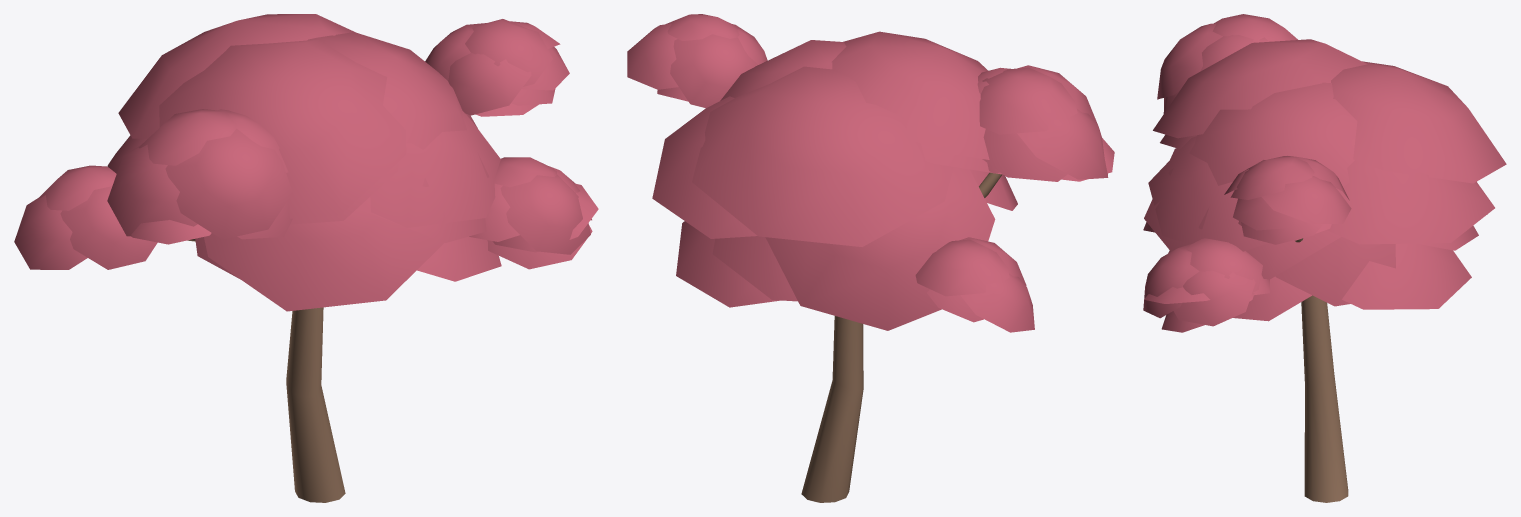
File: Tree_5.glb
3 renders of one model, left to right at view 1: azimuth 30°, elevation 25°; view 2: azimuth 150°, elevation 25°; view 3: azimuth 270°, elevation 25°, orthographic. The views are drawn at different scales.
Visible parts, largest first — view 1: Tree_5; view 2: Tree_5; view 3: Tree_5.
Boxes of the visible parts, x1,y1,x2,y2 form: Tree_5: [14, 14, 598, 502]; Tree_5: [627, 14, 1114, 502]; Tree_5: [1143, 14, 1506, 502].
Bounding box in the file's own units: 6.74 × 6.36 × 4.98.
